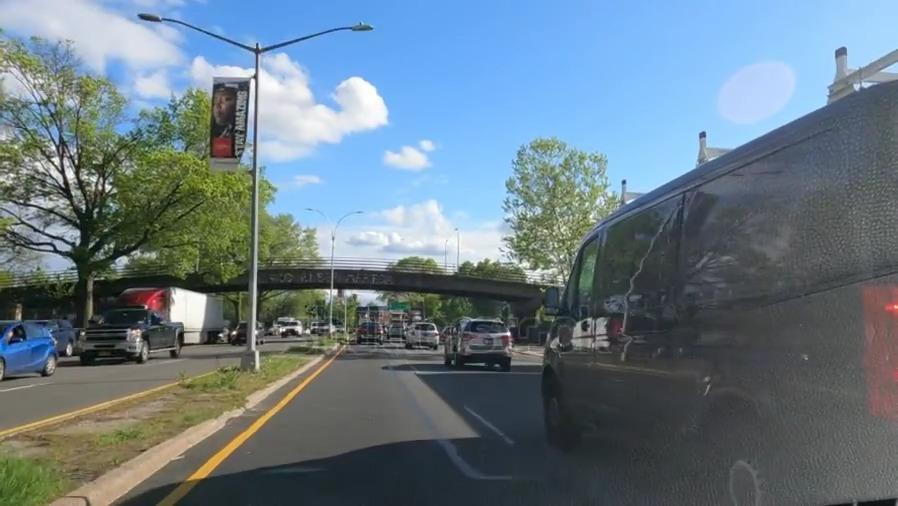car: (79, 312, 189, 361), (447, 316, 513, 369), (0, 326, 59, 375), (403, 322, 438, 347), (353, 321, 382, 343)
truck: (122, 285, 226, 343)
van: (553, 212, 898, 475)
wheel: (688, 418, 780, 506), (542, 368, 575, 446)
